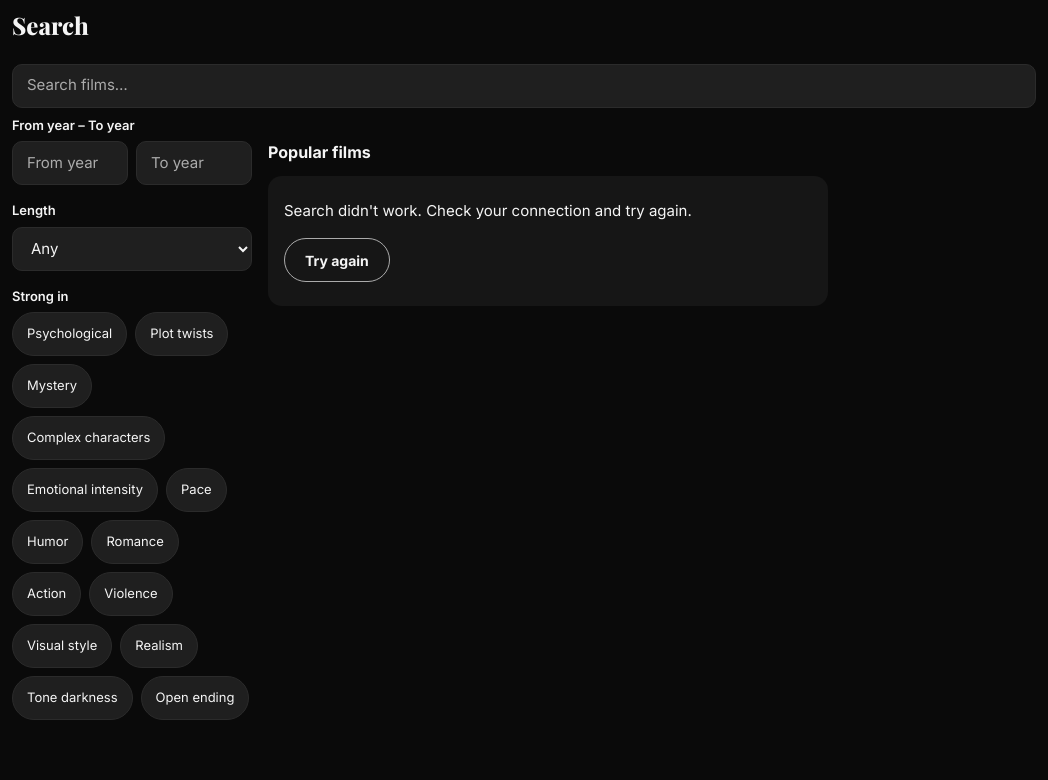
Test: Search › renders its error state with a retry that refetches
Expected: the message shows "Search didn't work.", [284,201,692,220]
Click the button "Try again": coordinates (337, 260) [284,238,390,282]
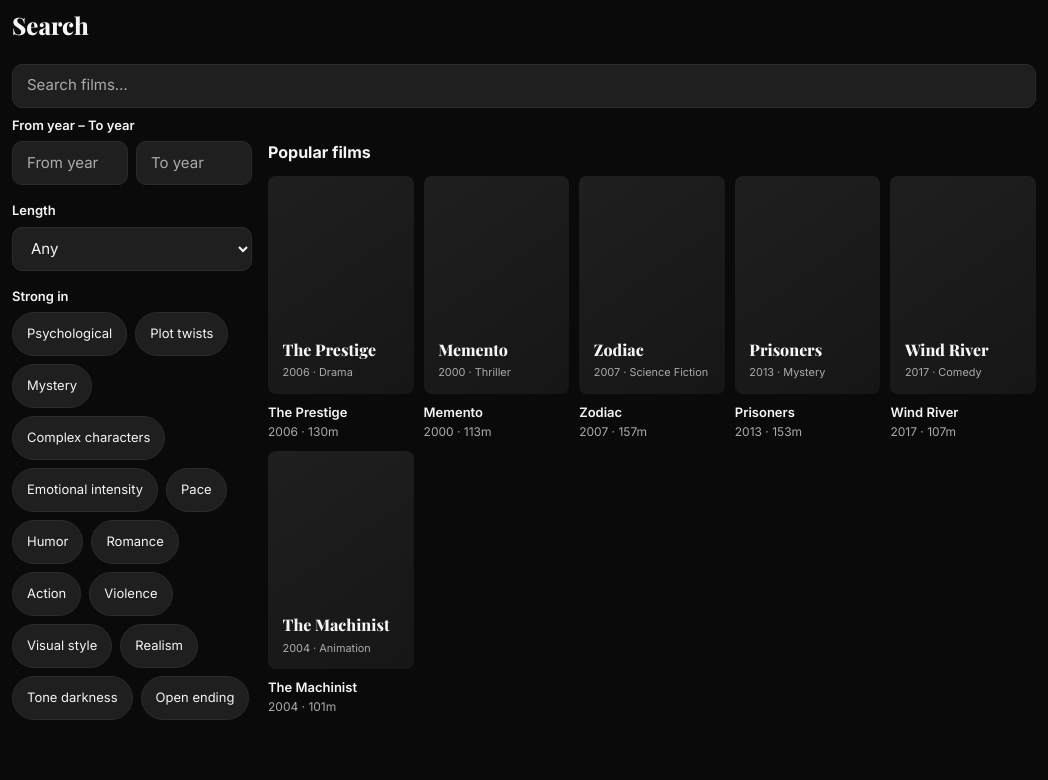
Result: the text "The Prestige" is shown at [268,404,347,420]
